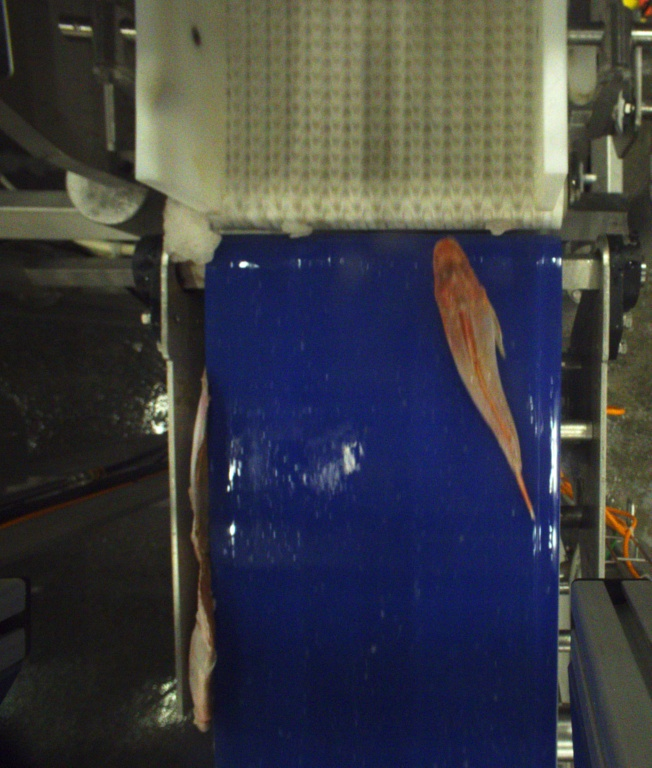GUU: (431, 235, 537, 519)
